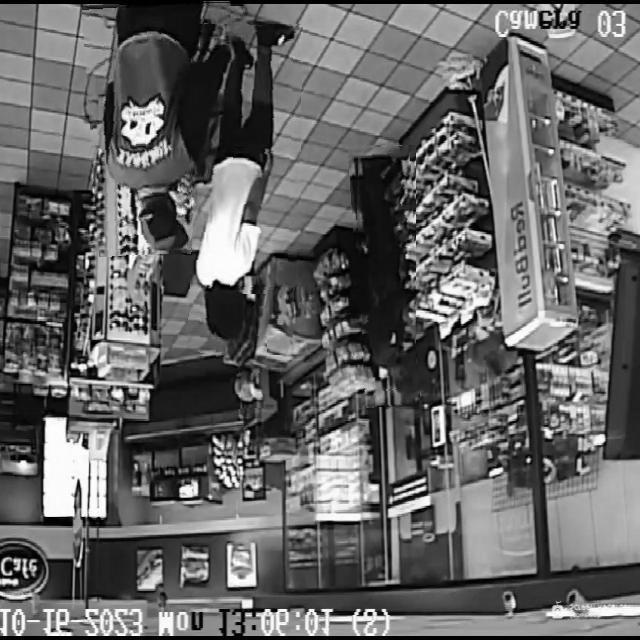Normal: (85, 0, 243, 255), (190, 24, 301, 355), (351, 145, 416, 407), (214, 294, 267, 408)
